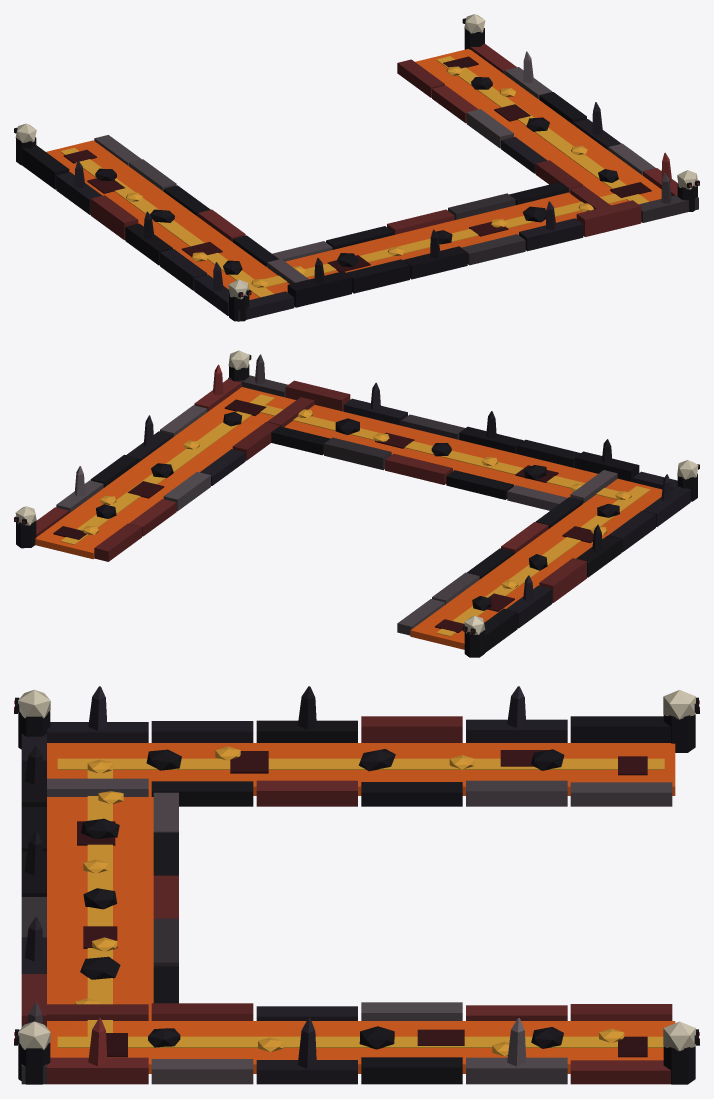
File: Decor_HellGate_LavaMoat.fbx
3 views of the same model, one above another, from view 1: azimuth 30°, elevation 25°; view 2: azimuth 150°, elevation 25°; view 3: azimuth 270°, elevation 25° (orthographic). The views are drawn at different scales.
Visible parts, largest first — view 1: LavaMoat_Body; view 2: LavaMoat_Body; view 3: LavaMoat_Body.
Boxes of the visible parts, <box> form: LavaMoat_Body: <box>14,14,699,321</box>; LavaMoat_Body: <box>14,350,699,657</box>; LavaMoat_Body: <box>14,686,699,1084</box>.
Size of the model in its own units: 39.4 by 3.2 by 33.1.
